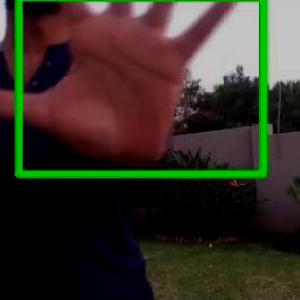follow_hand: (1, 0, 244, 172)
